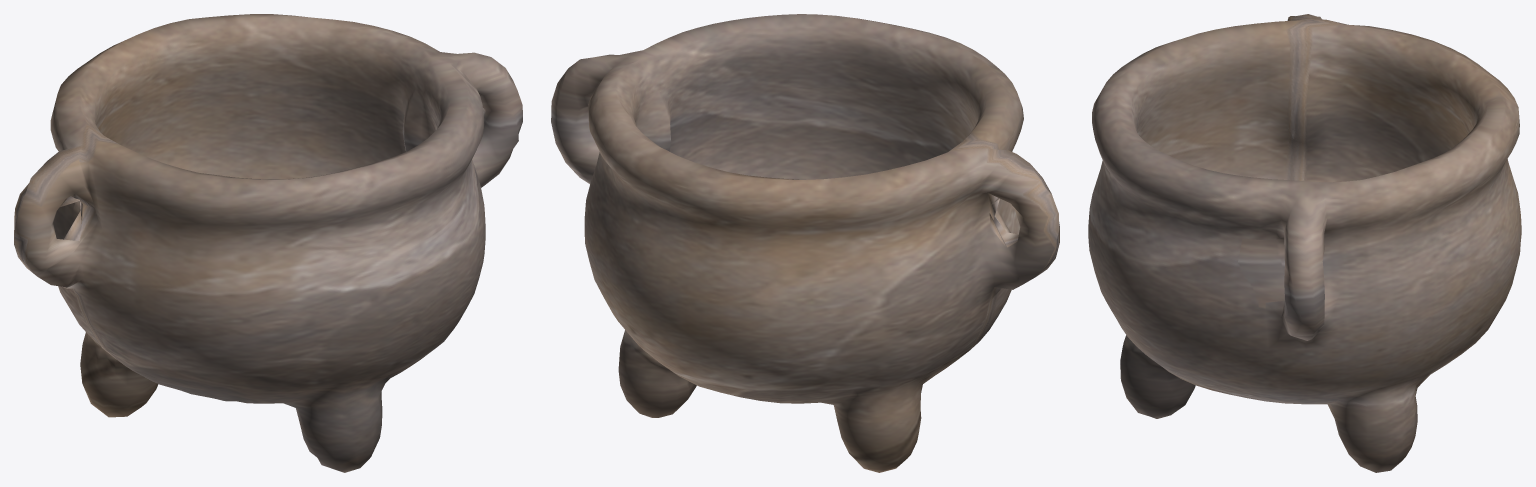
File: Caldeirao_Orvalis_3k.glb
3 views of the same model, side by side, from view 1: azimuth 30°, elevation 25°; view 2: azimuth 150°, elevation 25°; view 3: azimuth 270°, elevation 25° (orthographic).
Visible parts, largest first — view 1: Caldeirao_Pedra; view 2: Caldeirao_Pedra; view 3: Caldeirao_Pedra.
Part boxes in pixels (<box>): Caldeirao_Pedra: <box>14,14,522,472</box>; Caldeirao_Pedra: <box>551,14,1059,472</box>; Caldeirao_Pedra: <box>1088,14,1521,472</box>.
Bounding box in the file's own units: 3.08 × 1.86 × 2.33.
Materials: 1 (1 with a texture image).
